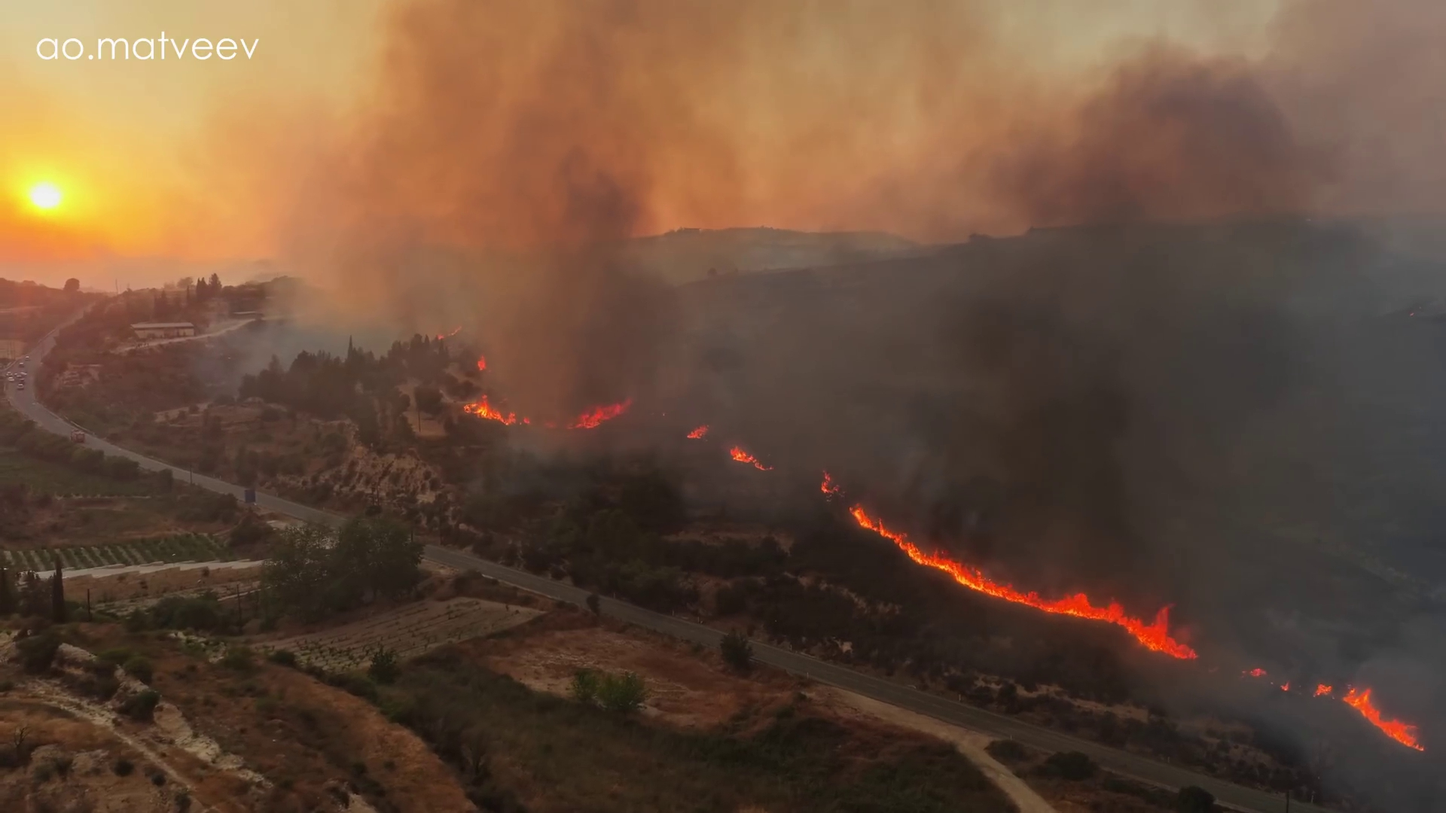forest_fire: (849, 505, 1196, 659), (1341, 688, 1423, 751), (568, 397, 631, 428), (462, 394, 526, 424), (730, 446, 770, 470), (821, 470, 840, 495), (687, 425, 708, 438)
